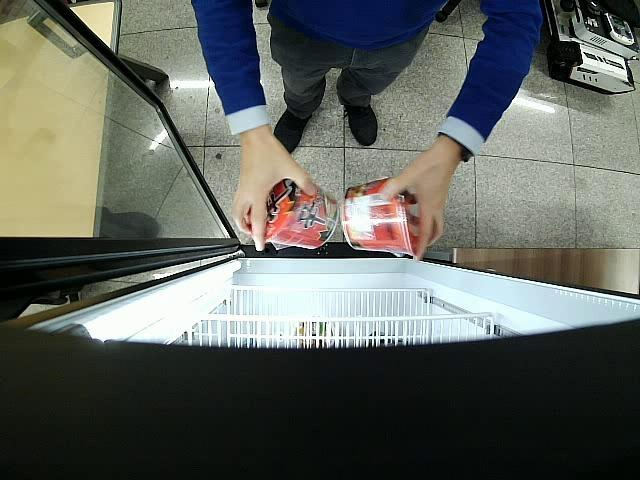01_ShinRamen_L: (248, 178, 340, 248), (342, 178, 418, 256)
